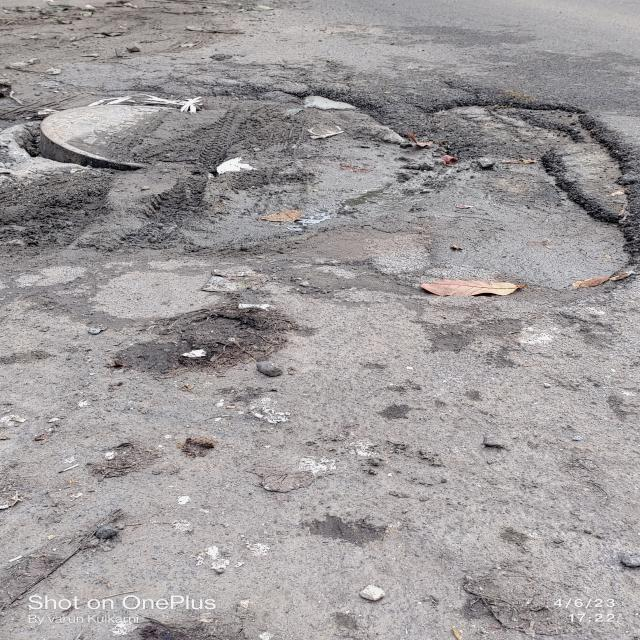potholes: (0, 89, 609, 304), (154, 308, 288, 372)
